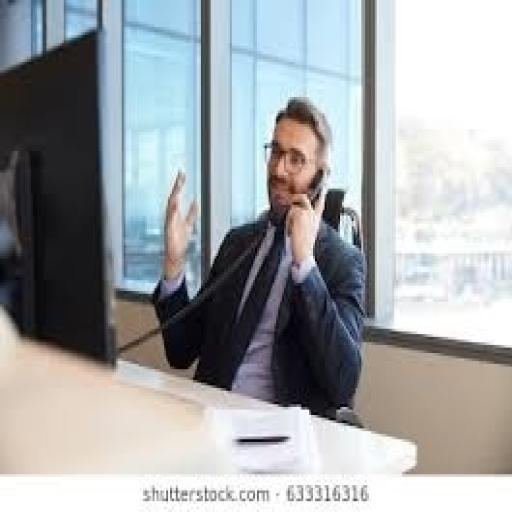calling: (151, 94, 369, 420)
